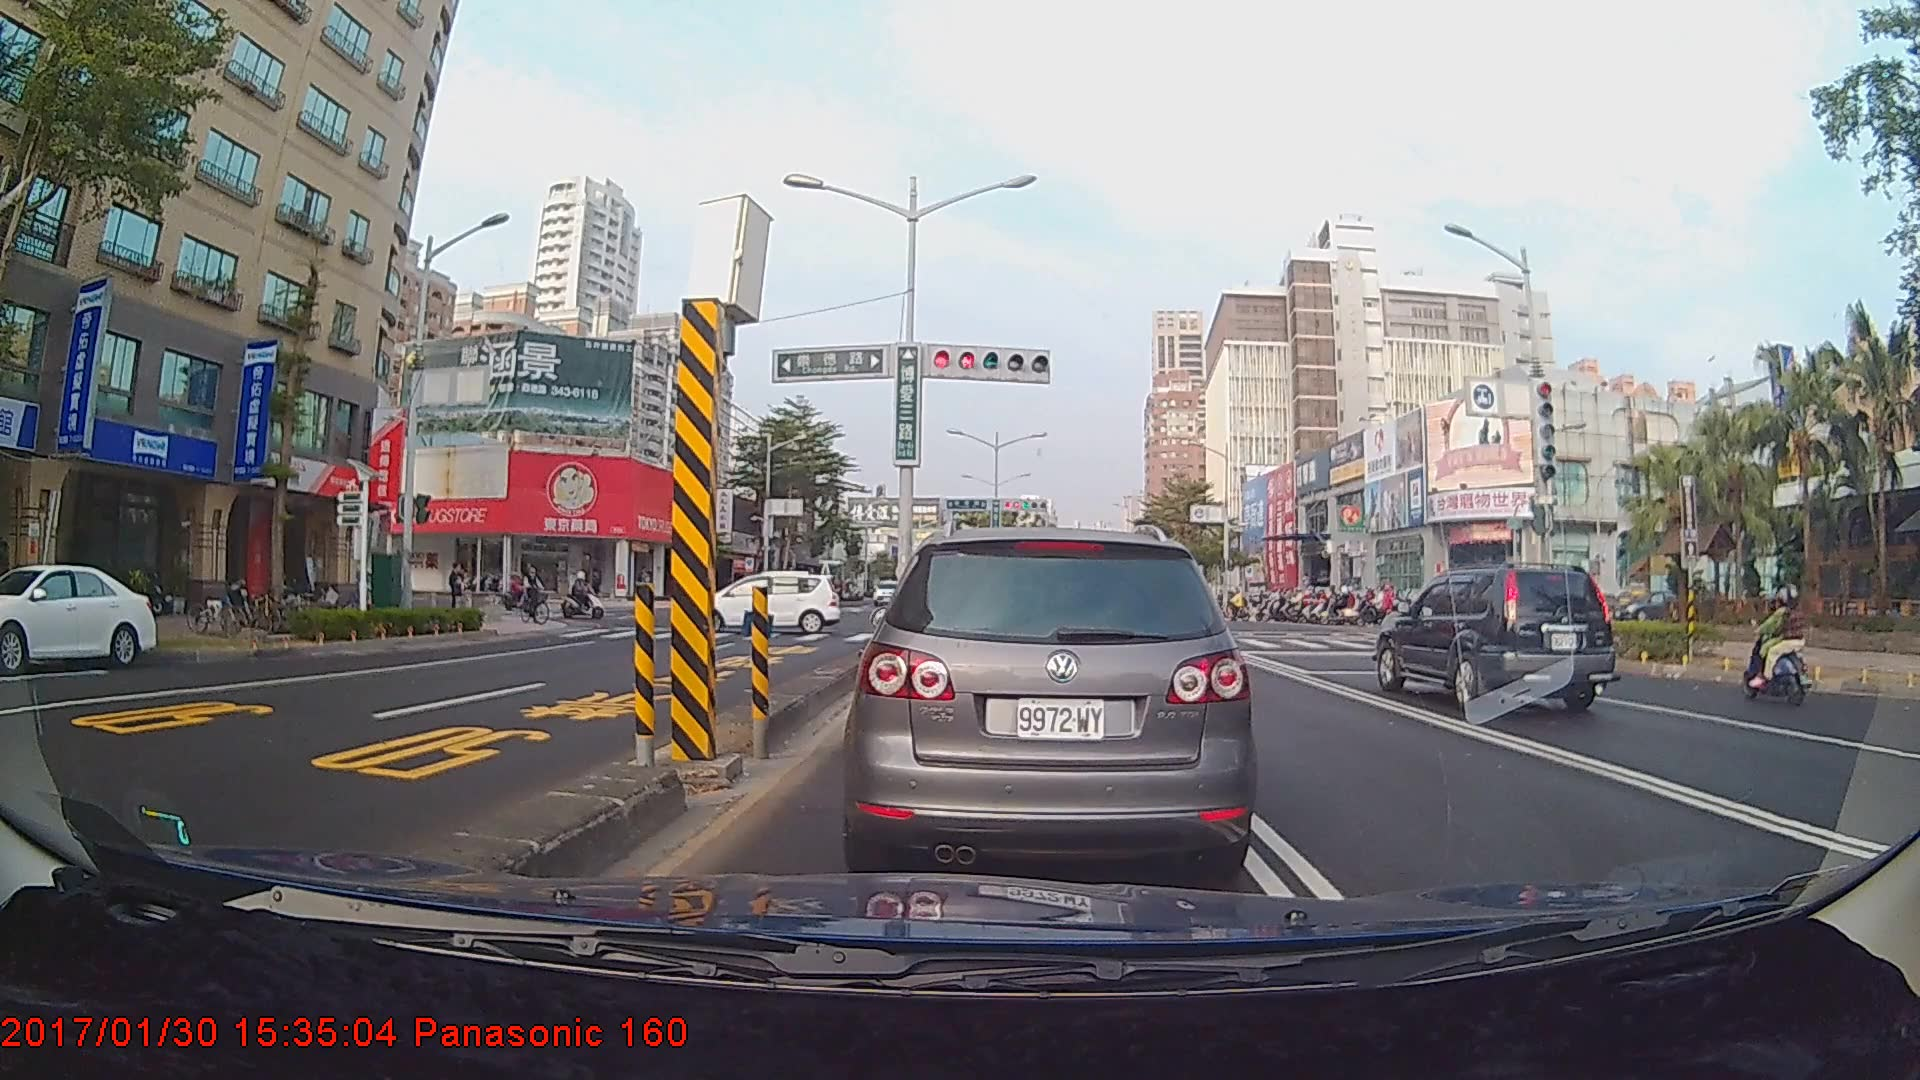pedestrian: (448, 563, 468, 620)
rider: (1739, 580, 1817, 713), (561, 571, 609, 622), (494, 571, 542, 614), (520, 566, 550, 627)
vehicle: (838, 512, 1261, 883), (1370, 564, 1610, 712), (0, 562, 154, 674), (681, 570, 841, 635)
